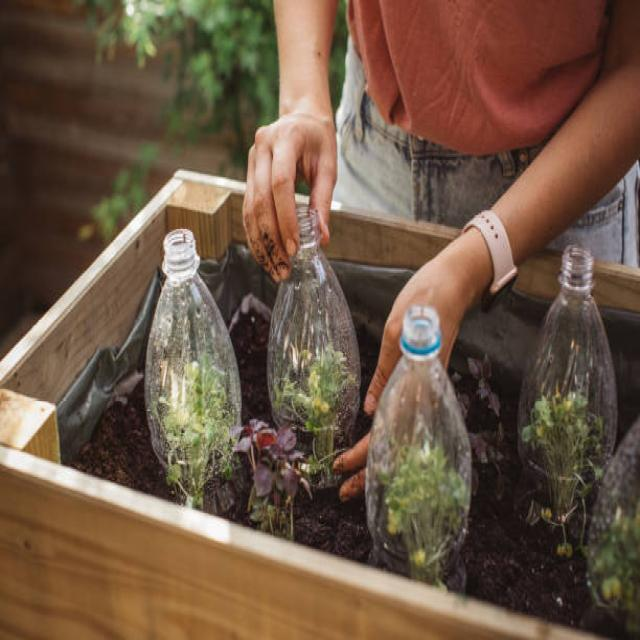plastic: (139, 212, 599, 519)
